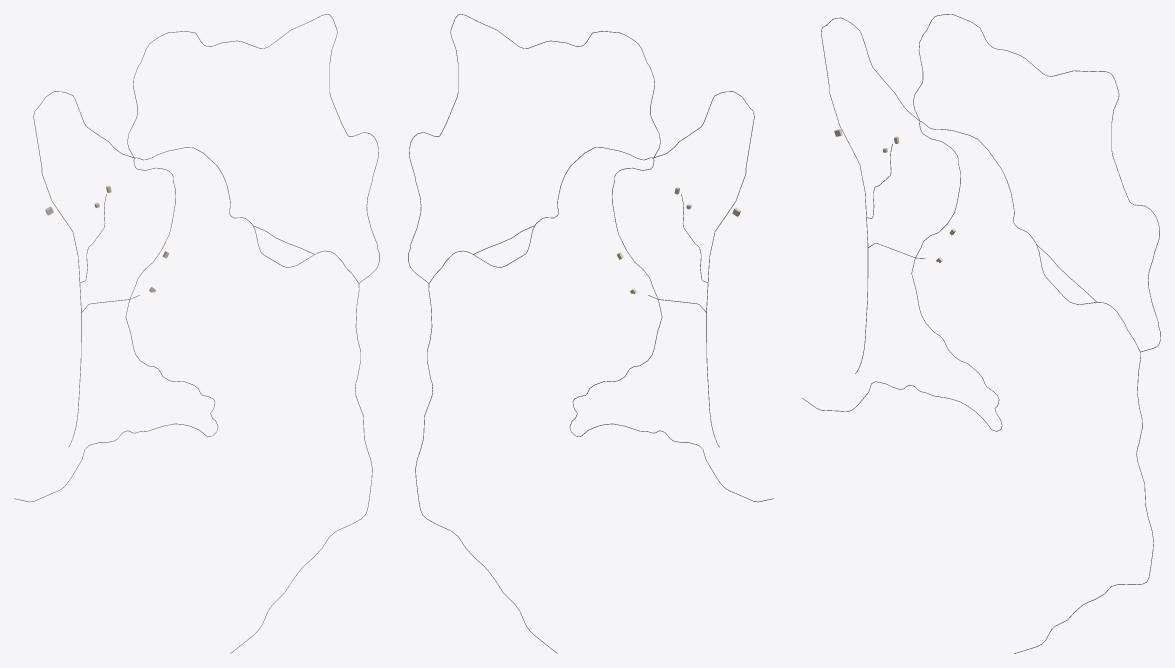
The model's file is historic-palestine-11_26_3534_3206.glb.
The picture shows the model from 3 angles, left to right: view 1: azimuth 30°, elevation 25°; view 2: azimuth 150°, elevation 25°; view 3: azimuth 330°, elevation 25°; orthographic projection.
Visible parts, largest first — view 1: Road .002, Road; view 2: Road .002, Road; view 3: Road .002, Road.
Part boxes in pixels (x1,y1,x2,y2): Road .002: (127,14,379,283); Road: (82,158,218,459); Road .002: (408,14,660,283); Road: (569,158,705,459); Road .002: (913,14,1160,352); Road: (868,121,1002,431).
Bounding box in the file's own units: 885 × 1473 × 8.7.
